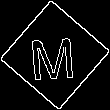M_N: (30, 28, 80, 82)
